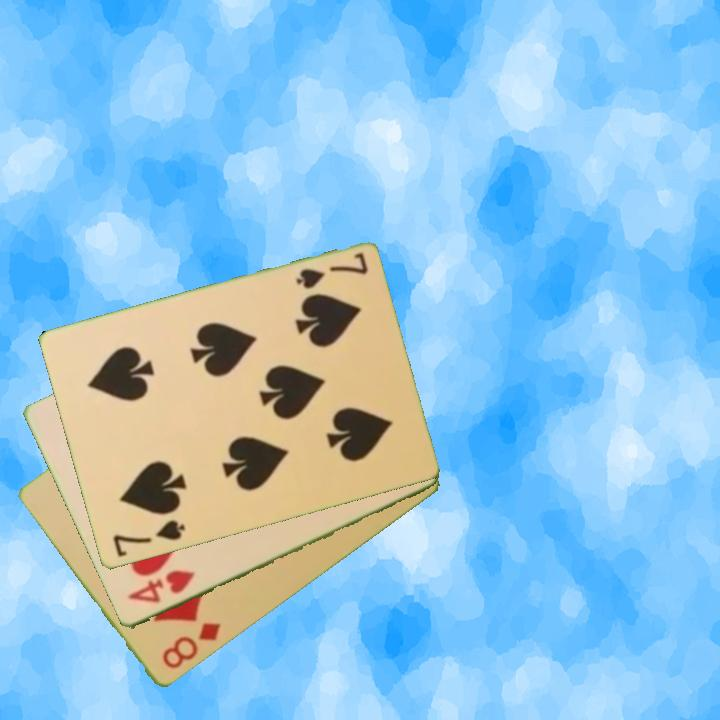4h: (124, 566, 198, 607)
7s: (109, 516, 188, 561), (292, 249, 371, 293)
8d: (158, 619, 224, 673)
